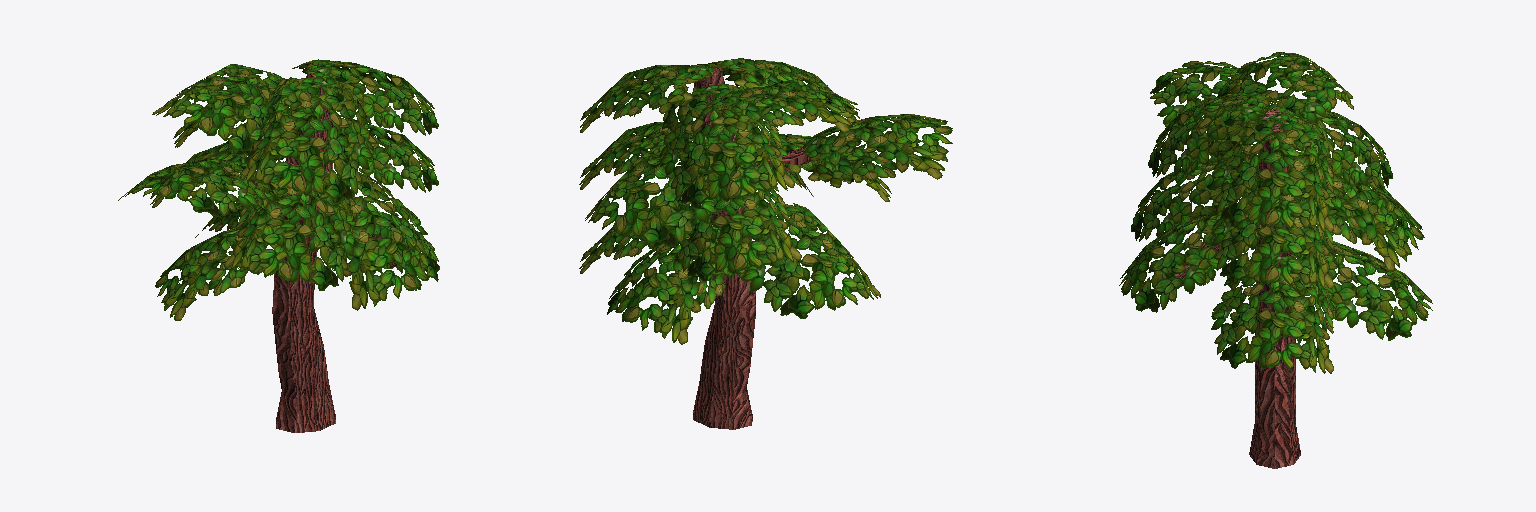
The picture shows the model from 3 angles: view 1: azimuth 30°, elevation 25°; view 2: azimuth 150°, elevation 25°; view 3: azimuth 270°, elevation 25°; orthographic projection.
Visible parts, largest first — view 1: Form5, Form6; view 2: Form5, Form6; view 3: Form5, Form6.
Part boxes in pixels (left/top/right/bottom): Form5: left=118, top=59, right=439, bottom=320; Form6: left=230, top=71, right=397, bottom=432; Form5: left=579, top=58, right=952, bottom=344; Form6: left=693, top=68, right=837, bottom=429; Form5: left=1119, top=52, right=1432, bottom=373; Form6: left=1175, top=109, right=1300, bottom=468.
Bounding box in the file's own units: 25.62 × 24.31 × 20.53.
2 materials, 2 textured.